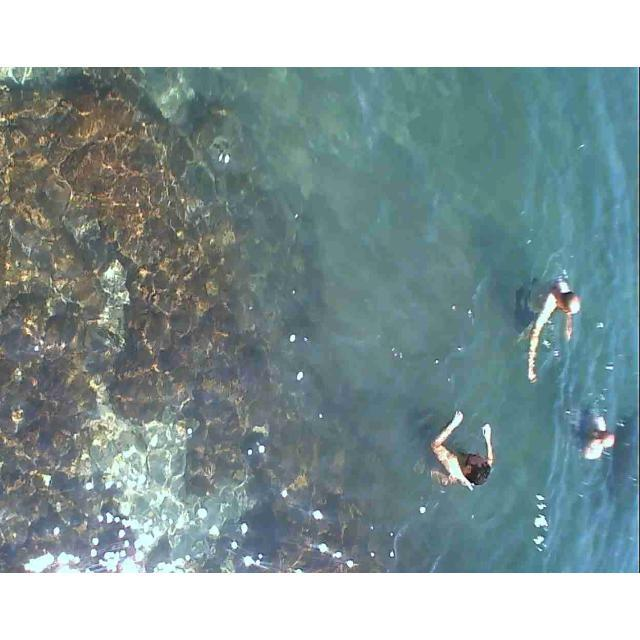human: (505, 252, 582, 376), (420, 411, 495, 494), (574, 412, 631, 463)
